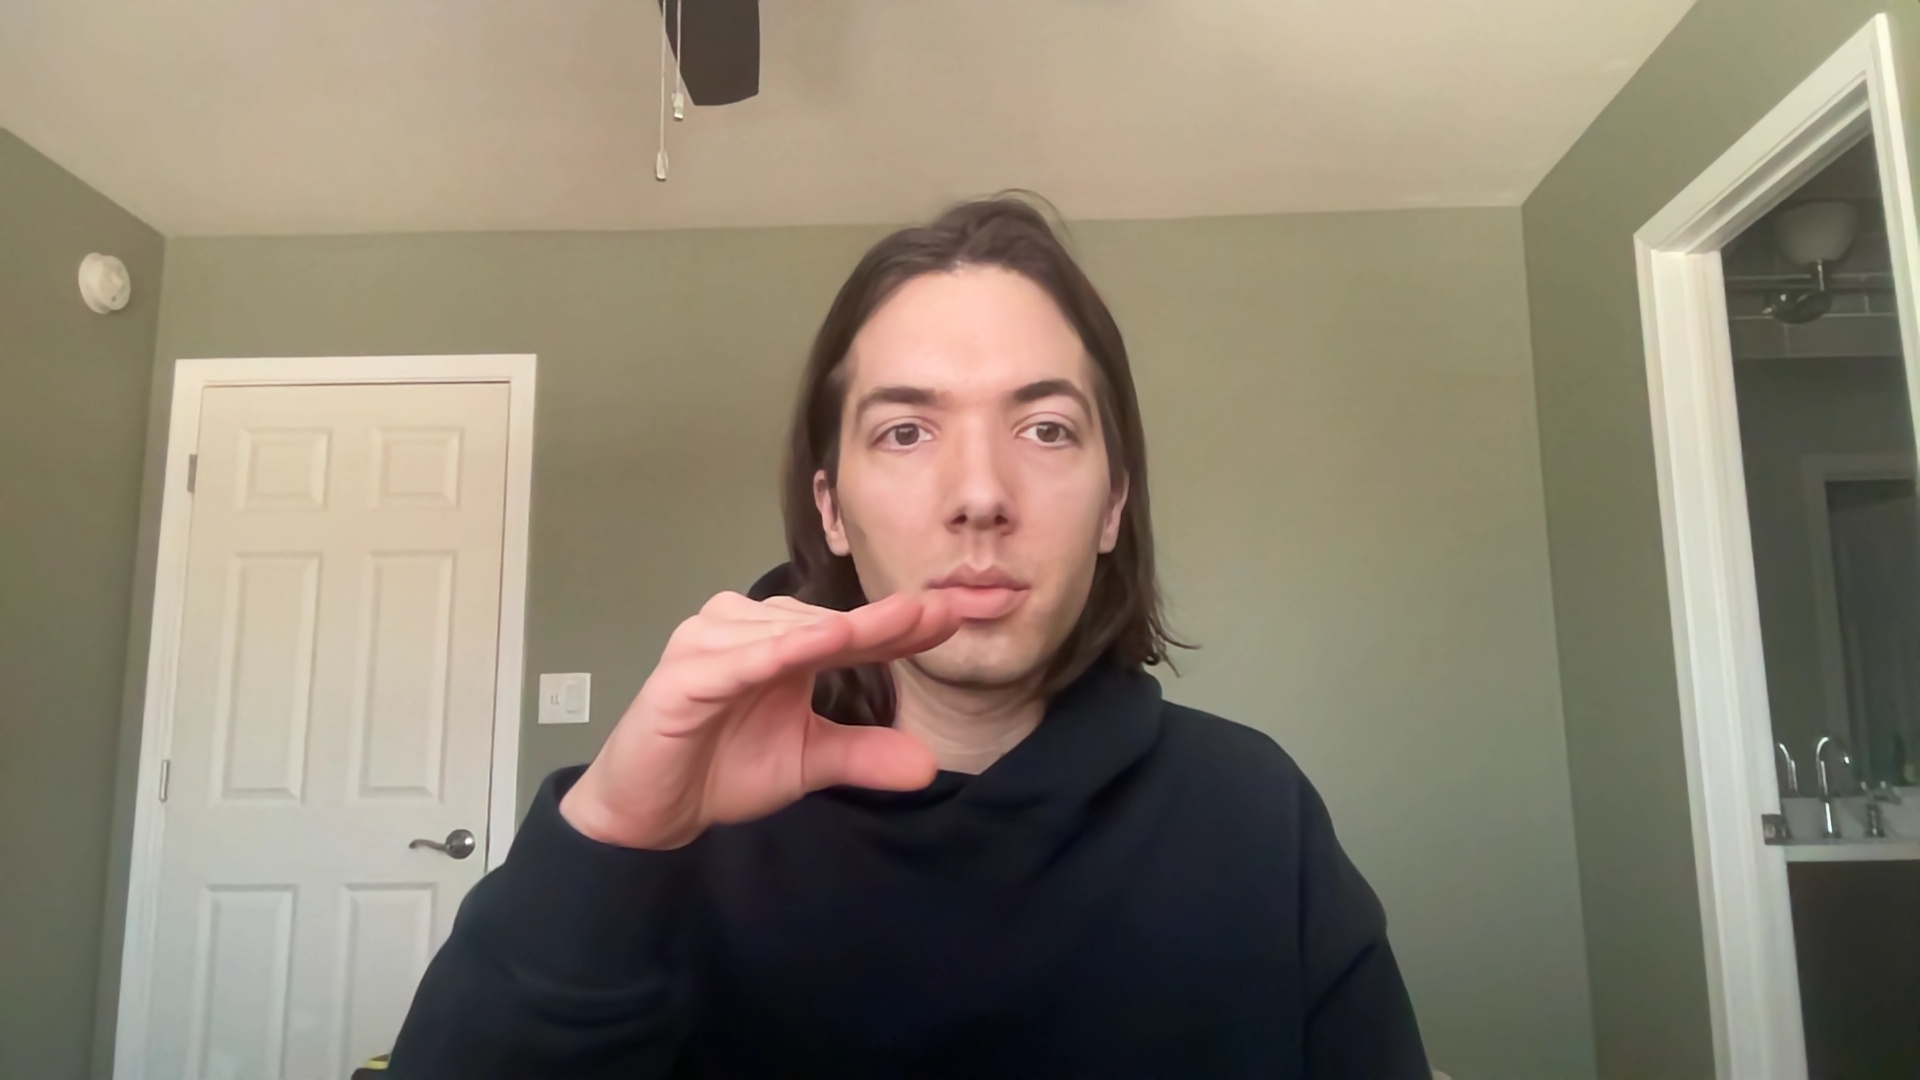No: (533, 556, 992, 856)
